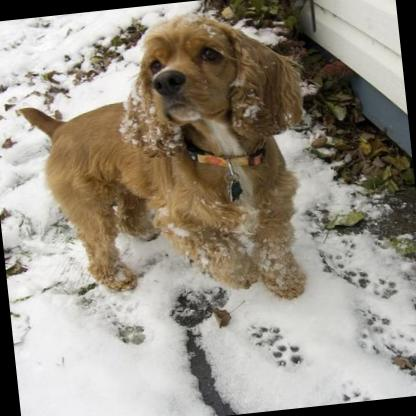cocker_spaniel: (6, 2, 324, 326)
